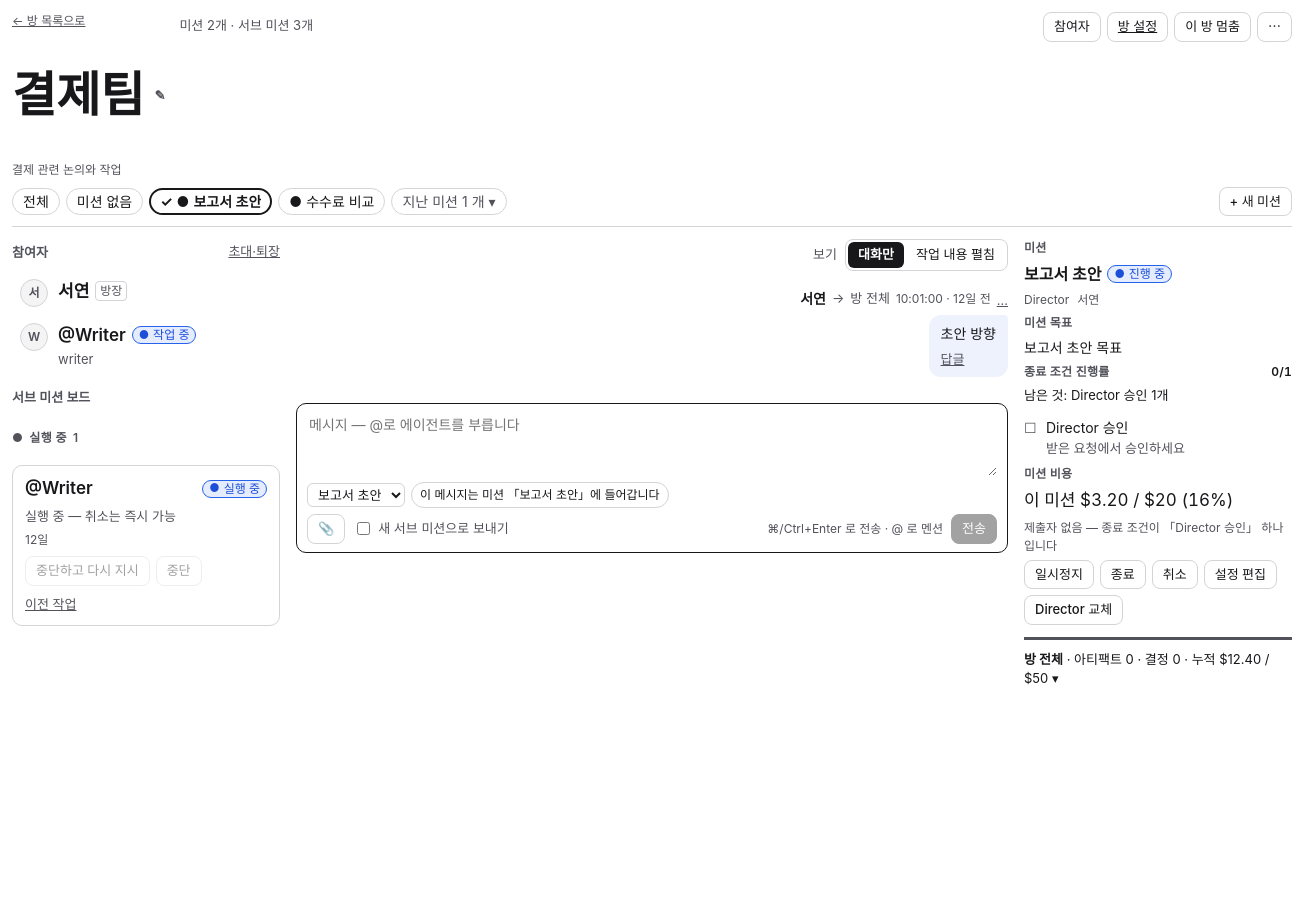
T-BUDGETCAP — 비용 줄의 상한(없으면 「상한 없음 — [상한 걸기]」, 있으면 「$x / $y (n%)」) › 상한 있음 — 미션 「이 미션 $3.20 / $20 (16%)」 · 방 「$12.40 / $50 (25%)」, [상한 걸기] 없음
Expected: the element with test id "room-title" is shown, [12,65,169,124]
Expected: the element with test id "message-card" is shown, [800,290,1008,377]
Click the button with test id "room-panel-toggle": (1158,669) [1024,648,1292,691]
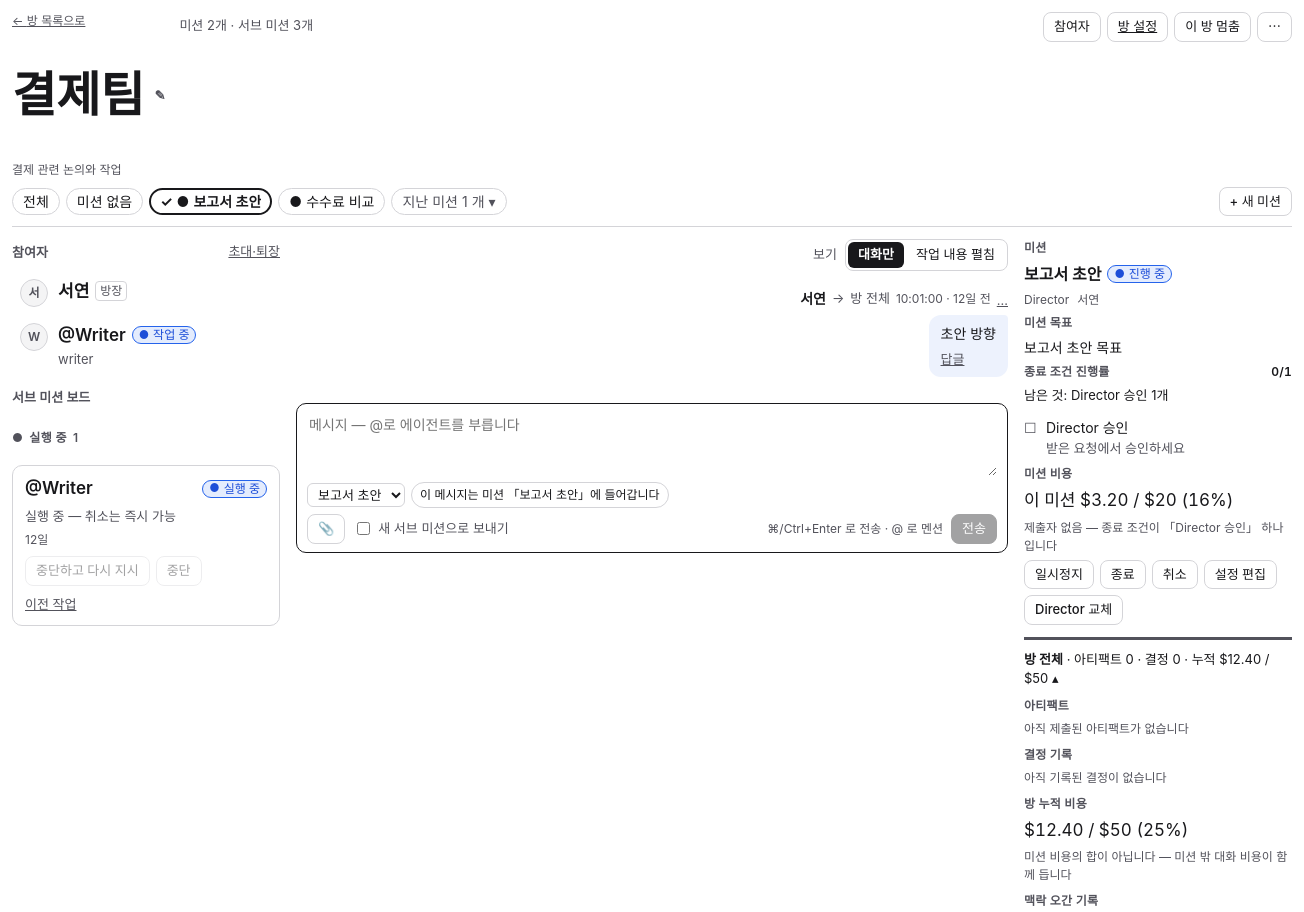
Expected: the text with test id "room-cost-line" reads "$12.40 / $50 (25%)", [1024,820,1188,840]
Expected: the button with test id "room-panel-toggle" shows "누적 $12.40 / $50", [1024,648,1292,691]
